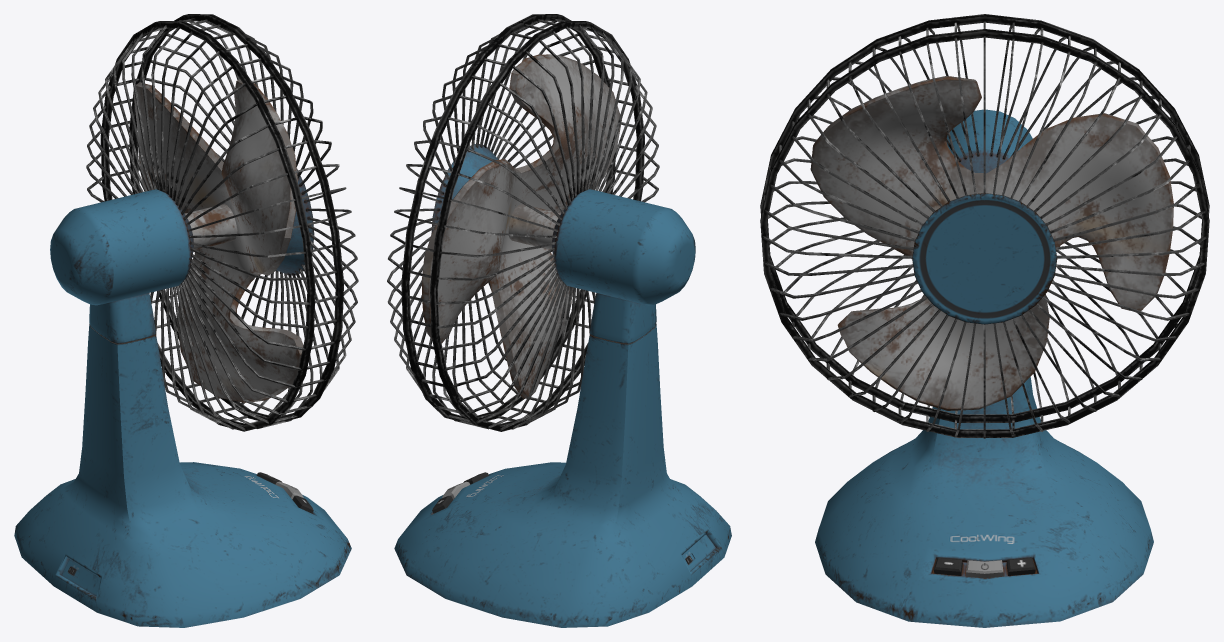
Rendered from table_fan.glb.
3 renders of one model, left to right at view 1: azimuth 30°, elevation 25°; view 2: azimuth 150°, elevation 25°; view 3: azimuth 270°, elevation 25°, orthographic. The views are drawn at different scales.
Parts seen in each view (by area): view 1: TopFanShape, Fan, WIngs; view 2: TopFanShape, Fan, WIngs; view 3: TopFanShape, Fan, WIngs, Button_OnOff.
Boxes of the visible parts, left/top/right/bottom form: TopFanShape: left=50, top=14, right=358, bottom=431; Fan: left=14, top=324, right=351, bottom=627; WIngs: left=133, top=79, right=303, bottom=402; TopFanShape: left=387, top=14, right=695, bottom=431; Fan: left=394, top=324, right=731, bottom=627; WIngs: left=422, top=54, right=621, bottom=398; TopFanShape: left=760, top=14, right=1209, bottom=438; Fan: left=815, top=377, right=1153, bottom=627; WIngs: left=810, top=76, right=1173, bottom=410; Button_OnOff: left=966, top=560, right=1003, bottom=577.
Size of the model in its own units: 0.1479 by 0.2678 by 0.1956.
Materials: 1 (1 with a texture image).
